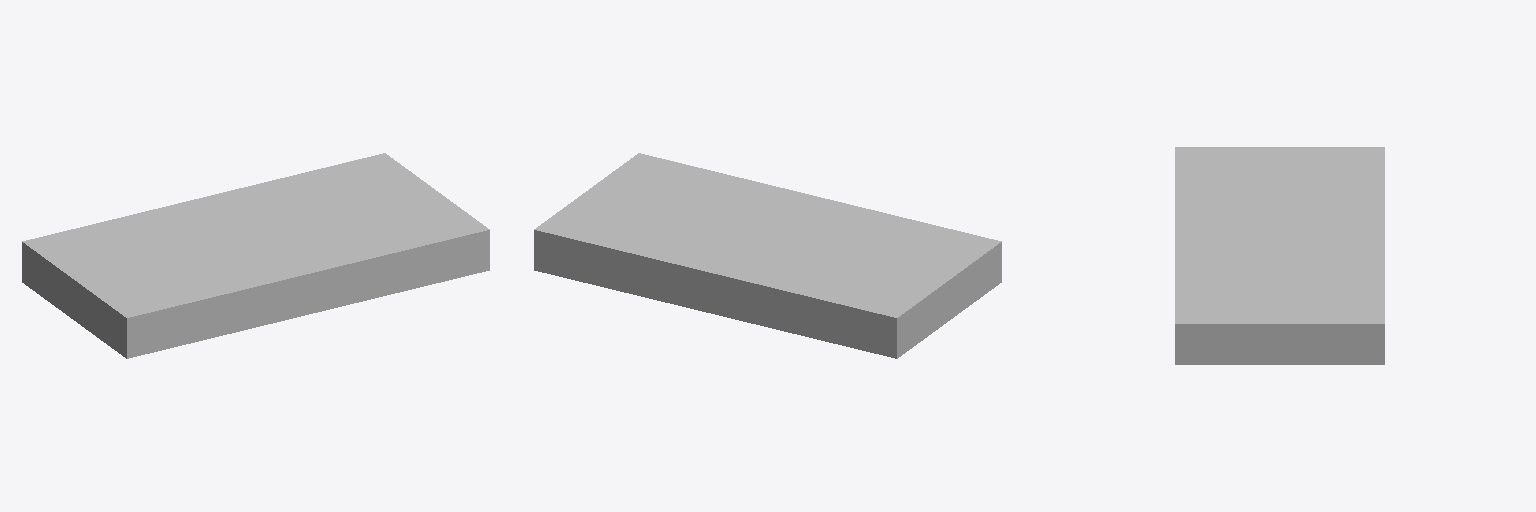
Rendered from lvl14.obj.
3 renders of one model, left to right at view 1: azimuth 30°, elevation 25°; view 2: azimuth 150°, elevation 25°; view 3: azimuth 270°, elevation 25°, orthographic.
Visible parts, largest first — view 1: Cube; view 2: Cube; view 3: Cube.
Boxes of the visible parts, x1=… form: Cube: x1=22, y1=153, x2=489, y2=358; Cube: x1=534, y1=153, x2=1001, y2=358; Cube: x1=1175, y1=147, x2=1384, y2=364.
Bounding box in the file's own units: 2.8 × 0.3 × 1.4.